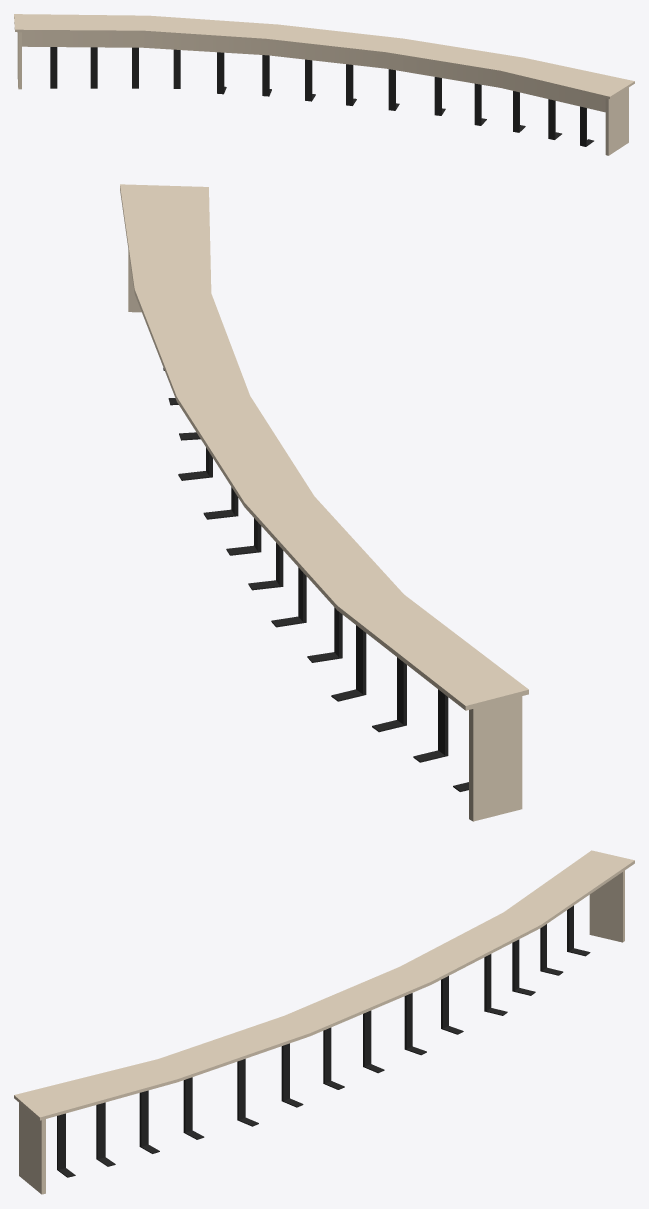
Rendered from AmphiGrandBanc14.fbx.
The picture shows the model from 3 angles, top to bottom: view 1: azimuth 30°, elevation 25°; view 2: azimuth 150°, elevation 25°; view 3: azimuth 270°, elevation 25°; orthographic projection. The views are drawn at different scales.
Visible parts, largest first — view 1: polySurface6; view 2: polySurface6; view 3: polySurface6.
Boxes of the visible parts, <box> form: polySurface6: <box>14,14,634,155</box>; polySurface6: <box>120,184,528,821</box>; polySurface6: <box>14,850,634,1194</box>.
Bounding box in the file's own units: 169 × 23.72 × 166.
